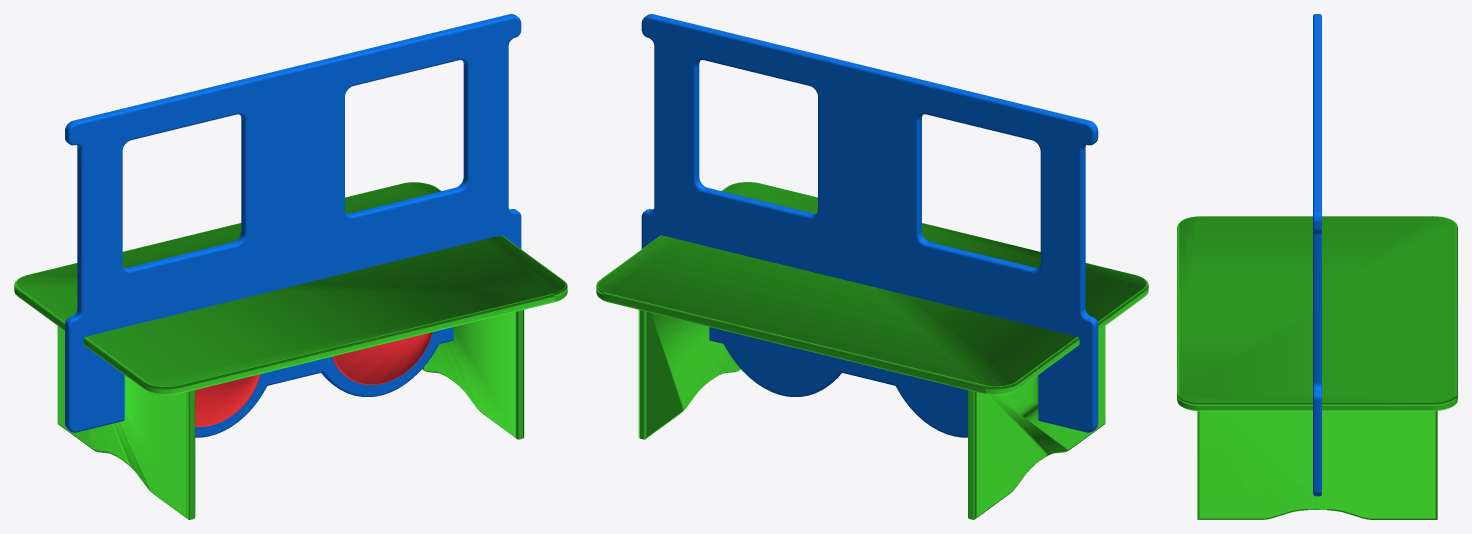
3 views of the same model, side by side, from view 1: azimuth 30°, elevation 25°; view 2: azimuth 150°, elevation 25°; view 3: azimuth 270°, elevation 25° (orthographic). The views are drawn at different scales.
Visible parts, largest first — view 1: D_51; view 2: D_51; view 3: D_51.
Boxes of the visible parts, x1,y1,x2,y2 form: D_51: (14,14,567,519); D_51: (596,14,1148,519); D_51: (1177,14,1457,519).
Bounding box in the file's own units: 108 × 82.5 × 63.
